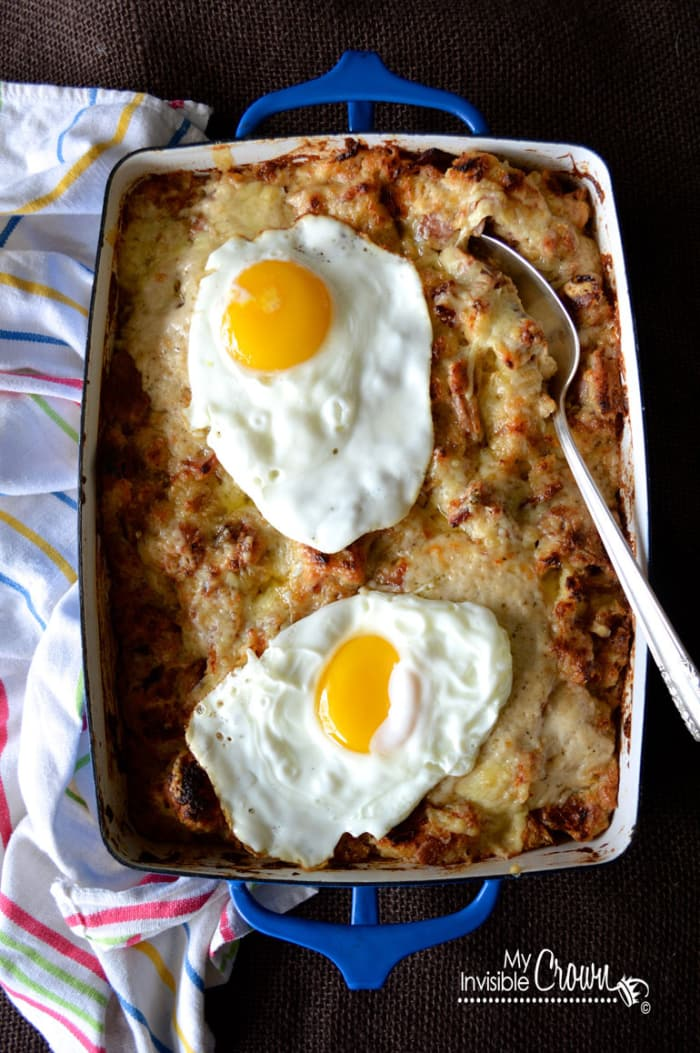fried egg: (213, 240, 418, 529), (218, 631, 483, 789)
